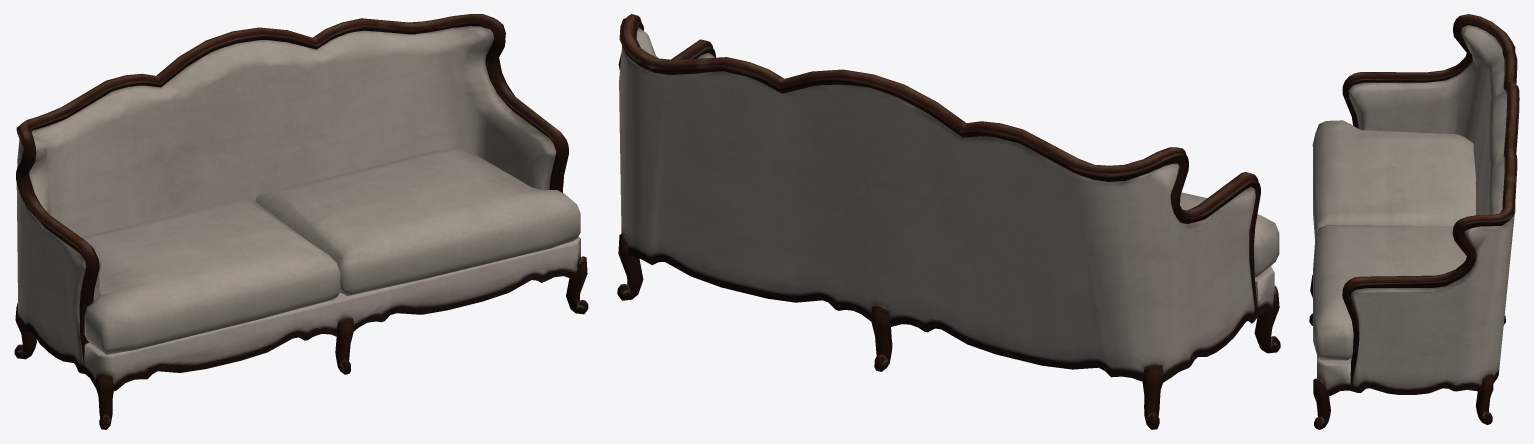
File: sofa.glb
The picture shows the model from 3 angles, left to right: view 1: azimuth 30°, elevation 25°; view 2: azimuth 150°, elevation 25°; view 3: azimuth 270°, elevation 25°; orthographic projection. The views are drawn at different scales.
Parts seen in each view (by area): view 1: Sofa_01; view 2: Sofa_01; view 3: Sofa_01.
Part boxes in pixels (x1,y1,x2,y2): Sofa_01: (14,14,588,429); Sofa_01: (617,14,1280,429); Sofa_01: (1309,14,1519,429).
Bounding box in the file's own units: 1.57 × 0.7966 × 0.658.
1 material, 1 textured.
